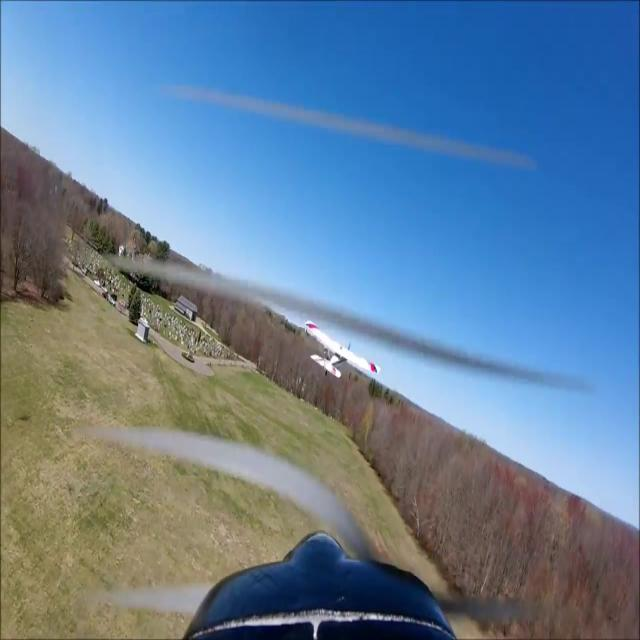iha: (340, 320, 346, 380)
